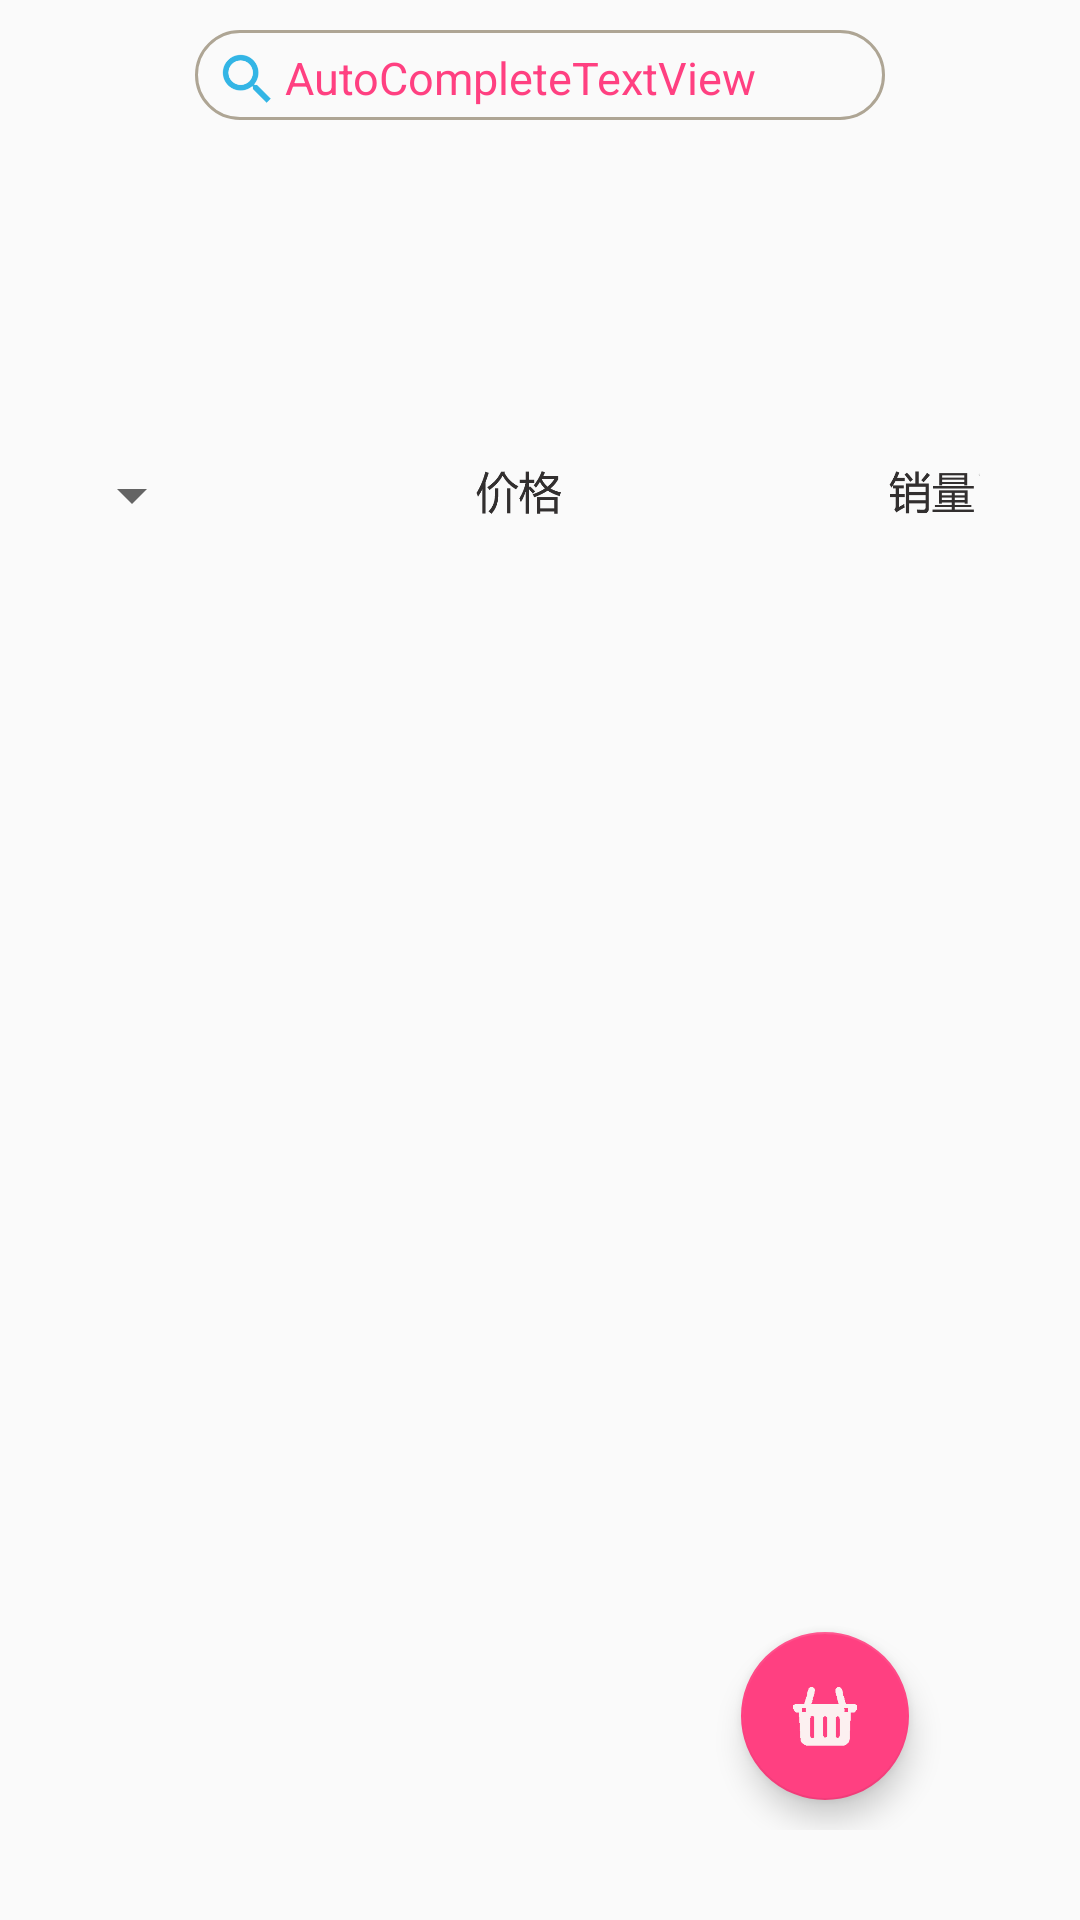

Icon bounding boxes for this 1080px x 1920px phone screenshot, format (x1,y1,x2,y2):
basket: (741,1632,909,1800)
search: (222,55,271,103)
